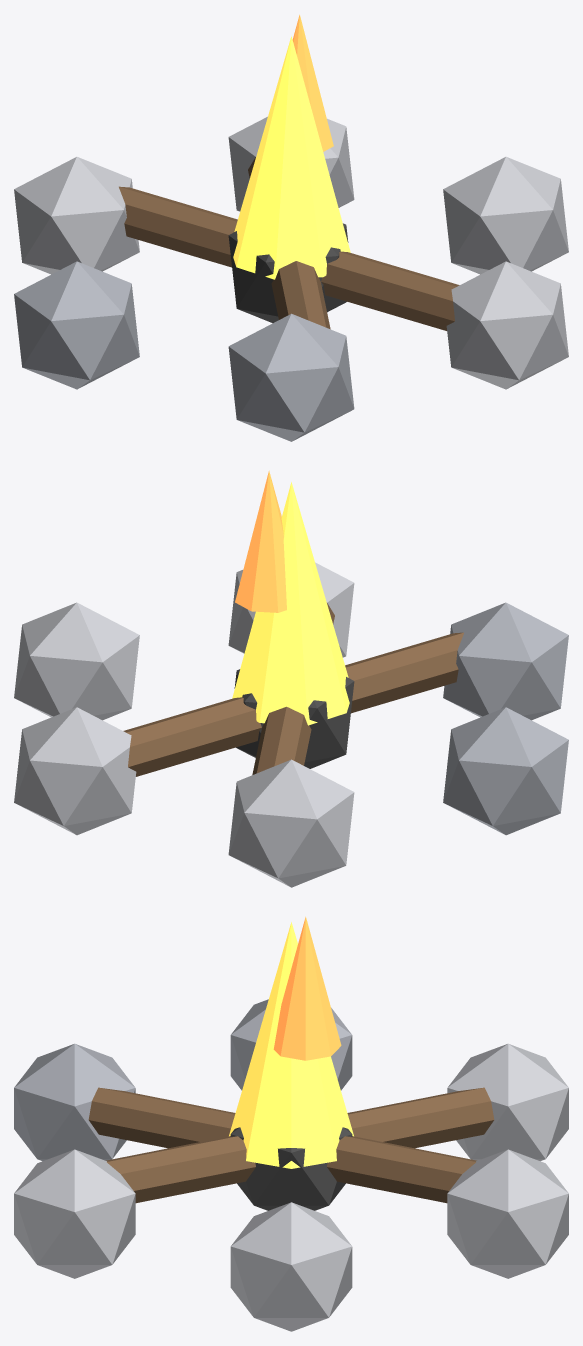
The model's file is fogata_inicio_lev1.glb.
3 views of the same model, one above another, from view 1: azimuth 30°, elevation 25°; view 2: azimuth 150°, elevation 25°; view 3: azimuth 270°, elevation 25° (orthographic).
Visible parts, largest first — view 1: fogata_inicio_lev1; view 2: fogata_inicio_lev1; view 3: fogata_inicio_lev1.
Part boxes in pixels (left/top/right/bottom): fogata_inicio_lev1: left=14, top=14, right=568, bottom=441; fogata_inicio_lev1: left=14, top=470, right=568, bottom=887; fogata_inicio_lev1: left=14, top=916, right=568, bottom=1331.
Bounding box in the file's own units: 1.76 × 0.98 × 1.55.
